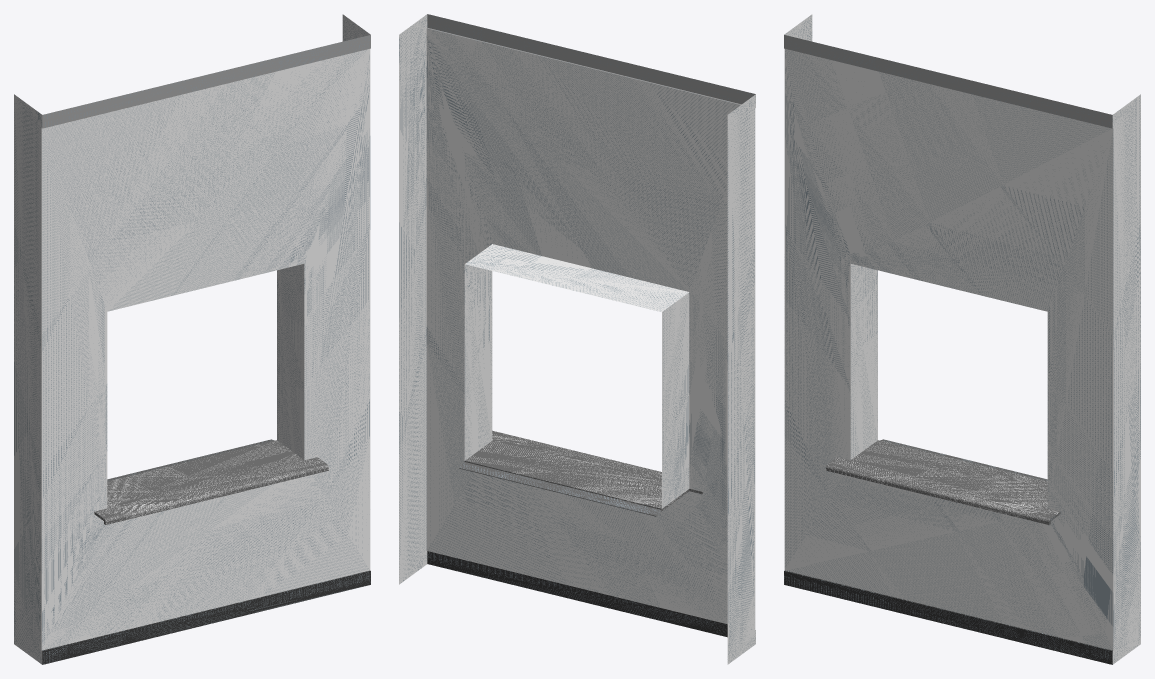
Rendered from WindowBlock_os_plinth_[250x400]_150x143x[100].dae.
3 views of the same model, side by side, from view 1: azimuth 30°, elevation 25°; view 2: azimuth 150°, elevation 25°; view 3: azimuth 330°, elevation 25° (orthographic).
Visible parts, largest first — view 1: group_2 (×4), group_1; view 2: group_2 (×4), group_1 (×2); view 3: group_2 (×4), group_1.
Part boxes in pixels (x1=…): group_2 (×4): x1=14, y1=14, x2=370, y2=664; group_1: x1=94, y1=440, x2=328, y2=524; group_2 (×4): x1=399, y1=14, x2=755, y2=664; group_1 (×2): x1=459, y1=430, x2=702, y2=516; group_2 (×4): x1=784, y1=14, x2=1140, y2=664; group_1: x1=826, y1=440, x2=1060, y2=524.
Bounding box in the file's own units: 98.43 × 23.03 × 157.
